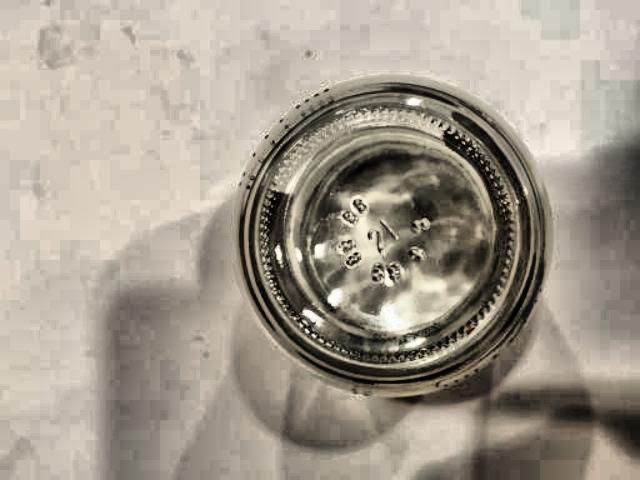Almennt: (220, 51, 557, 409)
